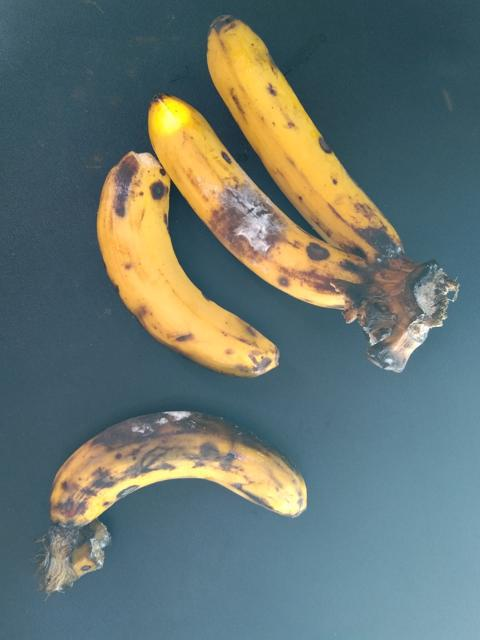overripe: (87, 141, 295, 386), (135, 84, 339, 311), (205, 18, 398, 251)
rotten: (28, 400, 318, 549)
